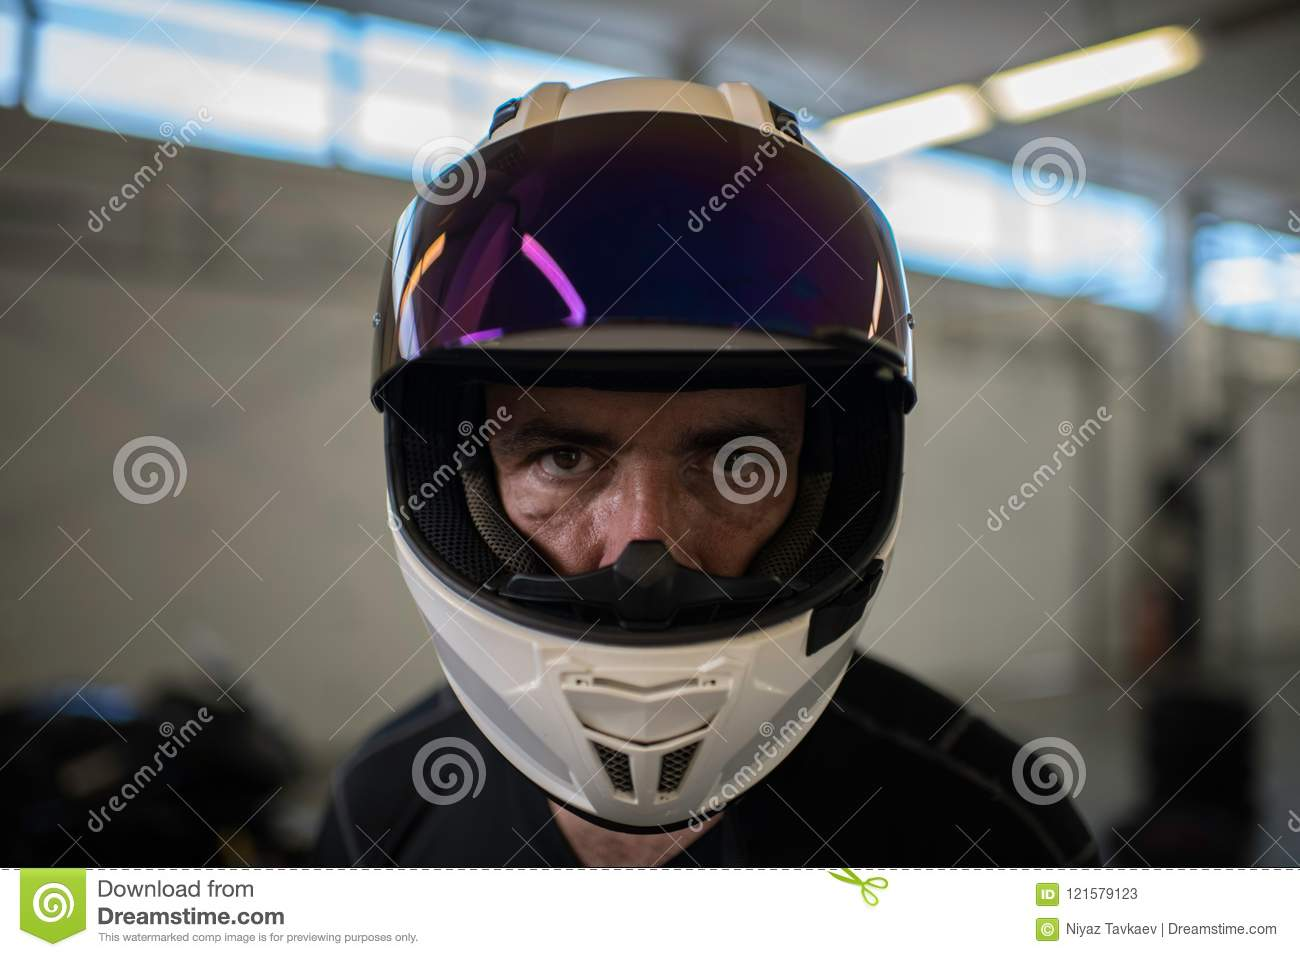helmet: (390, 124, 907, 779)
